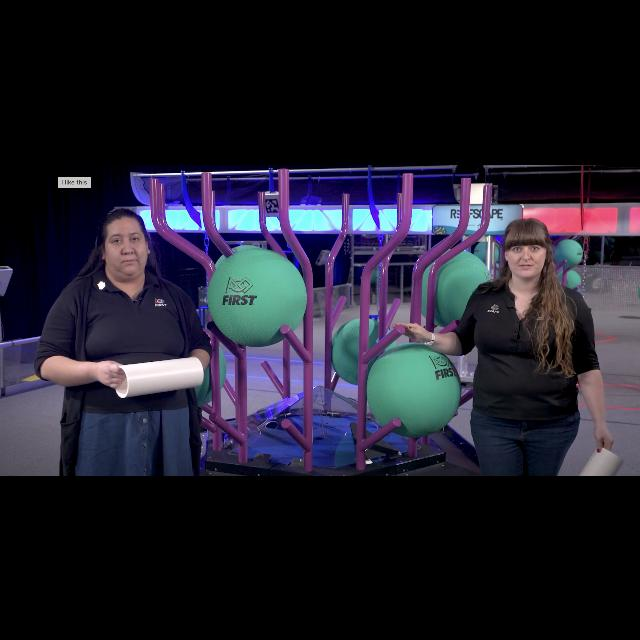ALGAE: (206, 245, 308, 347), (366, 342, 462, 438), (328, 316, 398, 388), (554, 238, 582, 268)
